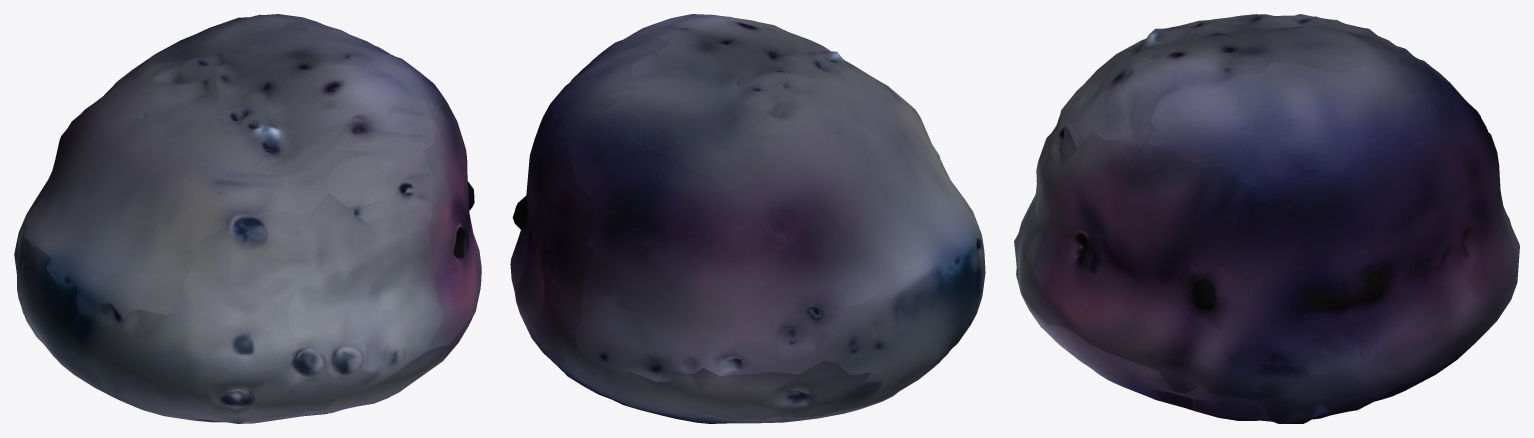
File: asteroid.glb
The picture shows the model from 3 angles, left to right: view 1: azimuth 30°, elevation 25°; view 2: azimuth 150°, elevation 25°; view 3: azimuth 270°, elevation 25°; orthographic projection. The views are drawn at different scales.
Visible parts, largest first — view 1: asteroid; view 2: asteroid; view 3: asteroid.
Boxes of the visible parts, left/top/right/bottom form: asteroid: left=14, top=14, right=481, bottom=423; asteroid: left=510, top=14, right=985, bottom=423; asteroid: left=1014, top=14, right=1519, bottom=423.
Size of the model in its own units: 0.9989 by 0.7263 by 1.
1 material, 1 textured.
